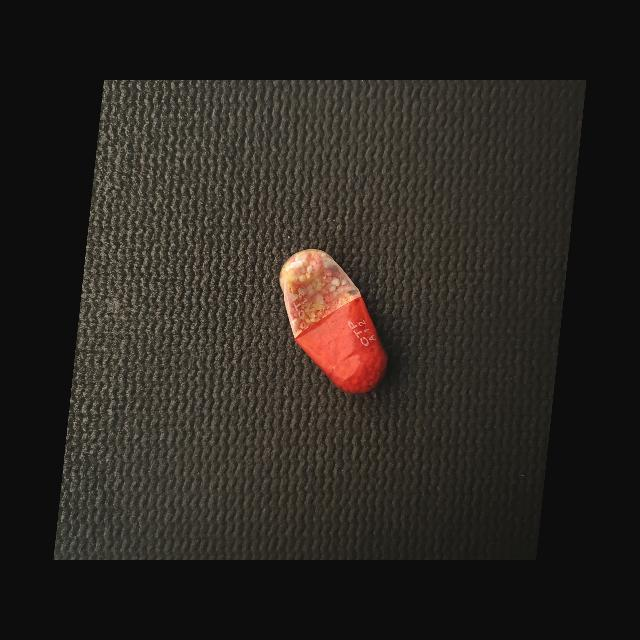Defective Capsule: (279, 249, 388, 393)
